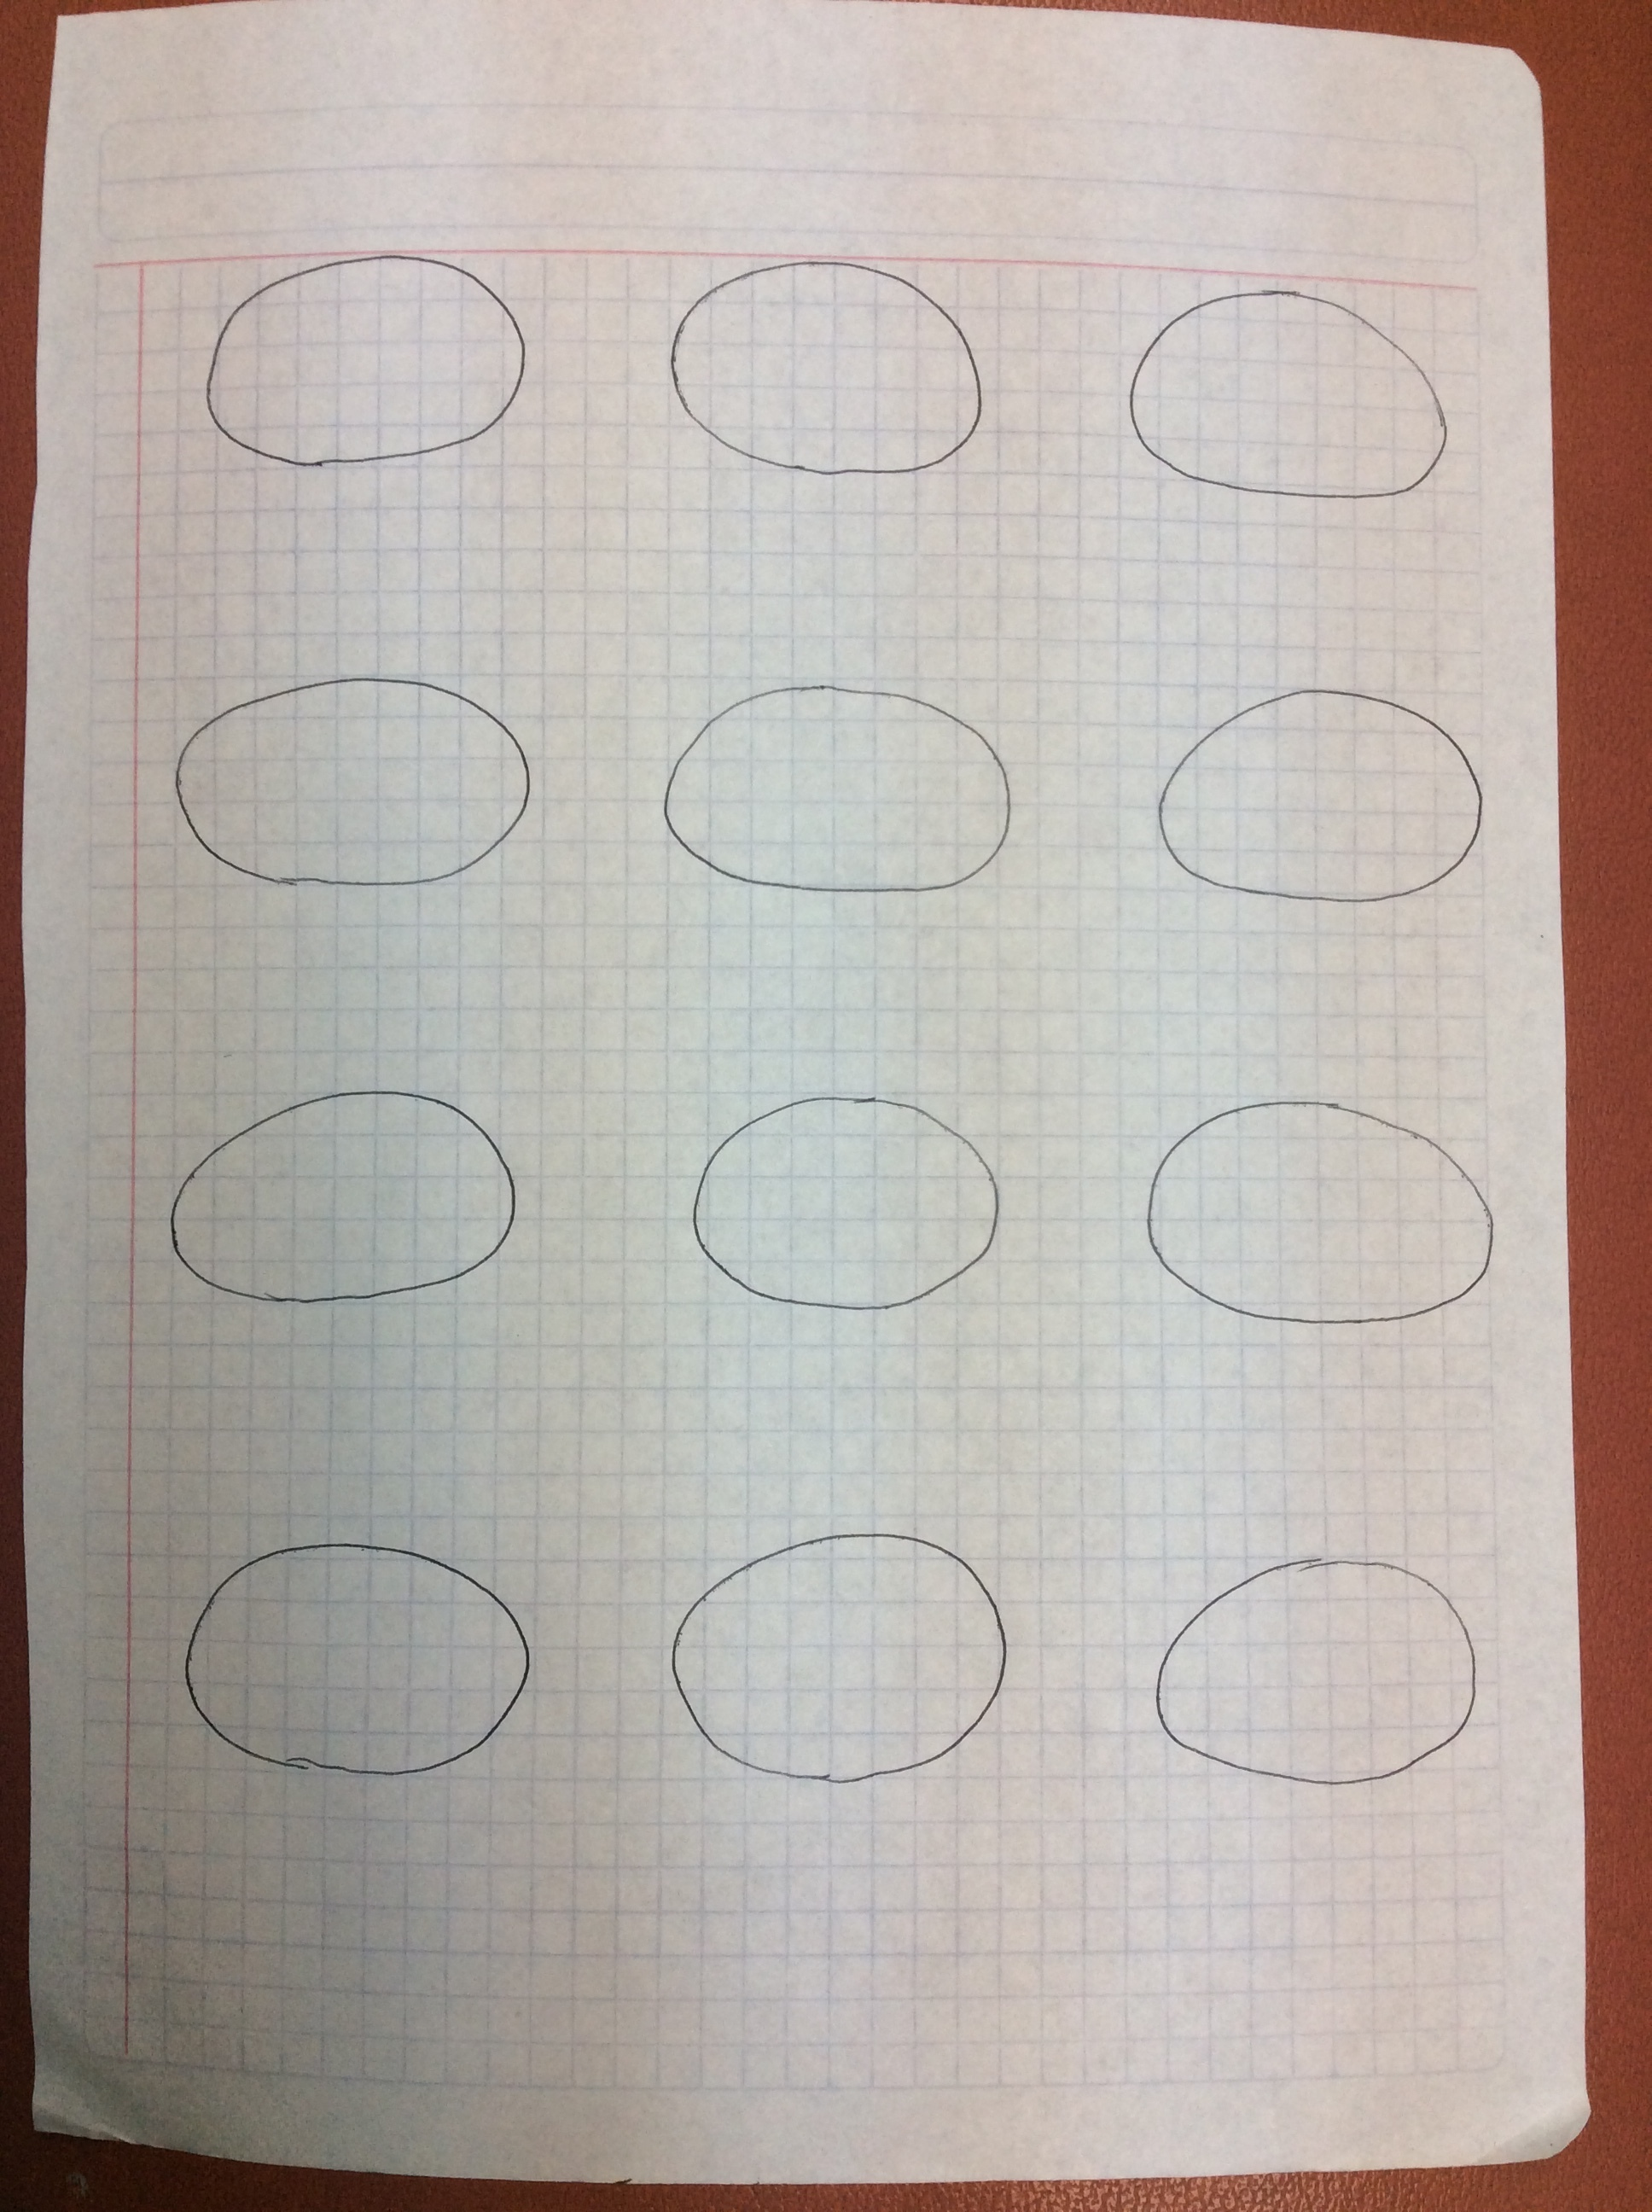start_end: (640, 1509, 1029, 1816), (1121, 1520, 1503, 1820), (1100, 232, 1470, 540), (172, 1513, 552, 1792), (1121, 652, 1498, 932), (139, 1058, 534, 1324), (640, 219, 1001, 508), (633, 659, 1036, 918), (1121, 1083, 1517, 1345), (146, 656, 559, 904), (658, 1065, 1032, 1331), (172, 236, 545, 491)
